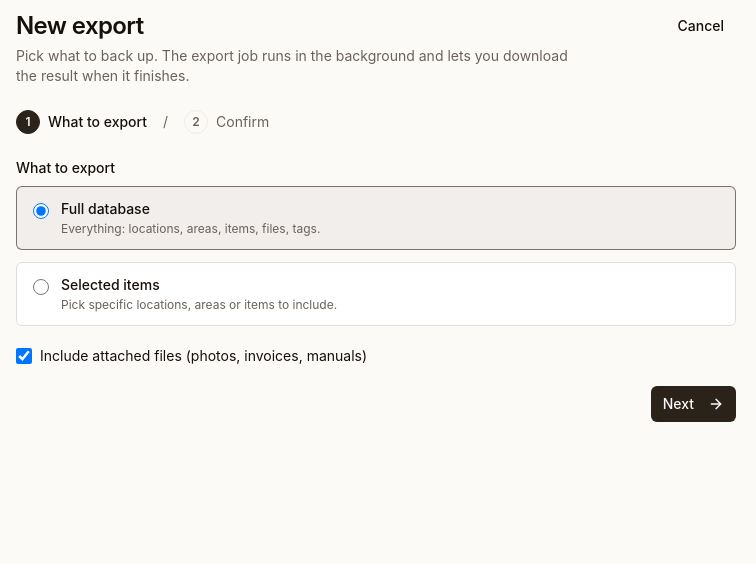
Scenario: <ExportNewPage /> › blocks the next button when selected_items is picked but empty
expect the element with test id "wizard-step-1-content" is shown: met, box x1=16 y1=158 x2=736 y2=422
Step 1. Click the label with test id "wizard-scope-selected_items" → (110, 284), box x1=16 y1=262 x2=736 y2=326
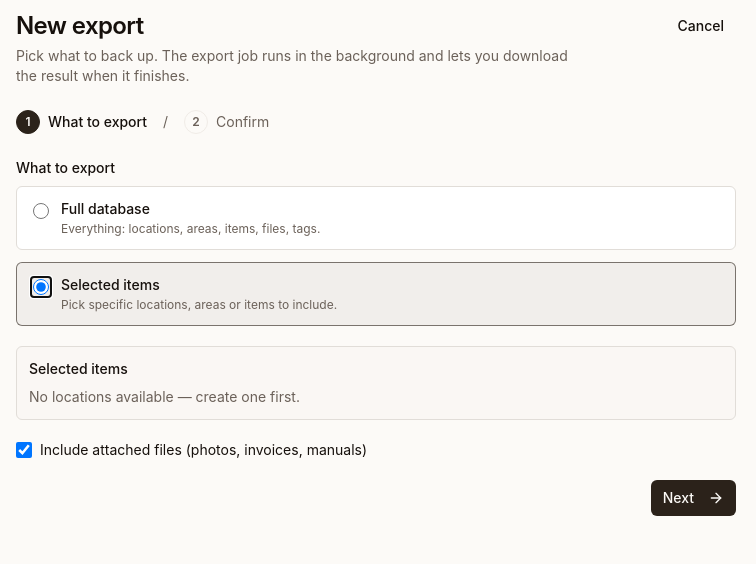
Step 2. Click the button with test id "wizard-next" → (693, 498), box x1=651 y1=480 x2=736 y2=516
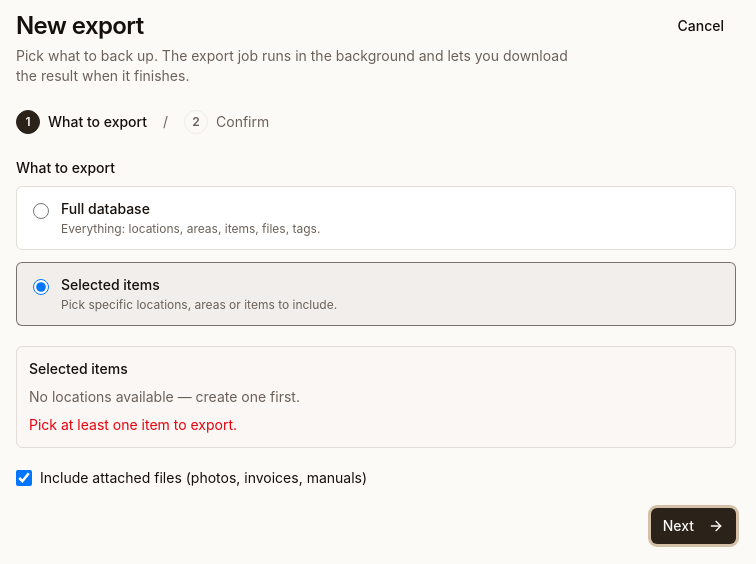
expect the message "Pick at least one item to export." is shown: met, box x1=29 y1=416 x2=237 y2=433
